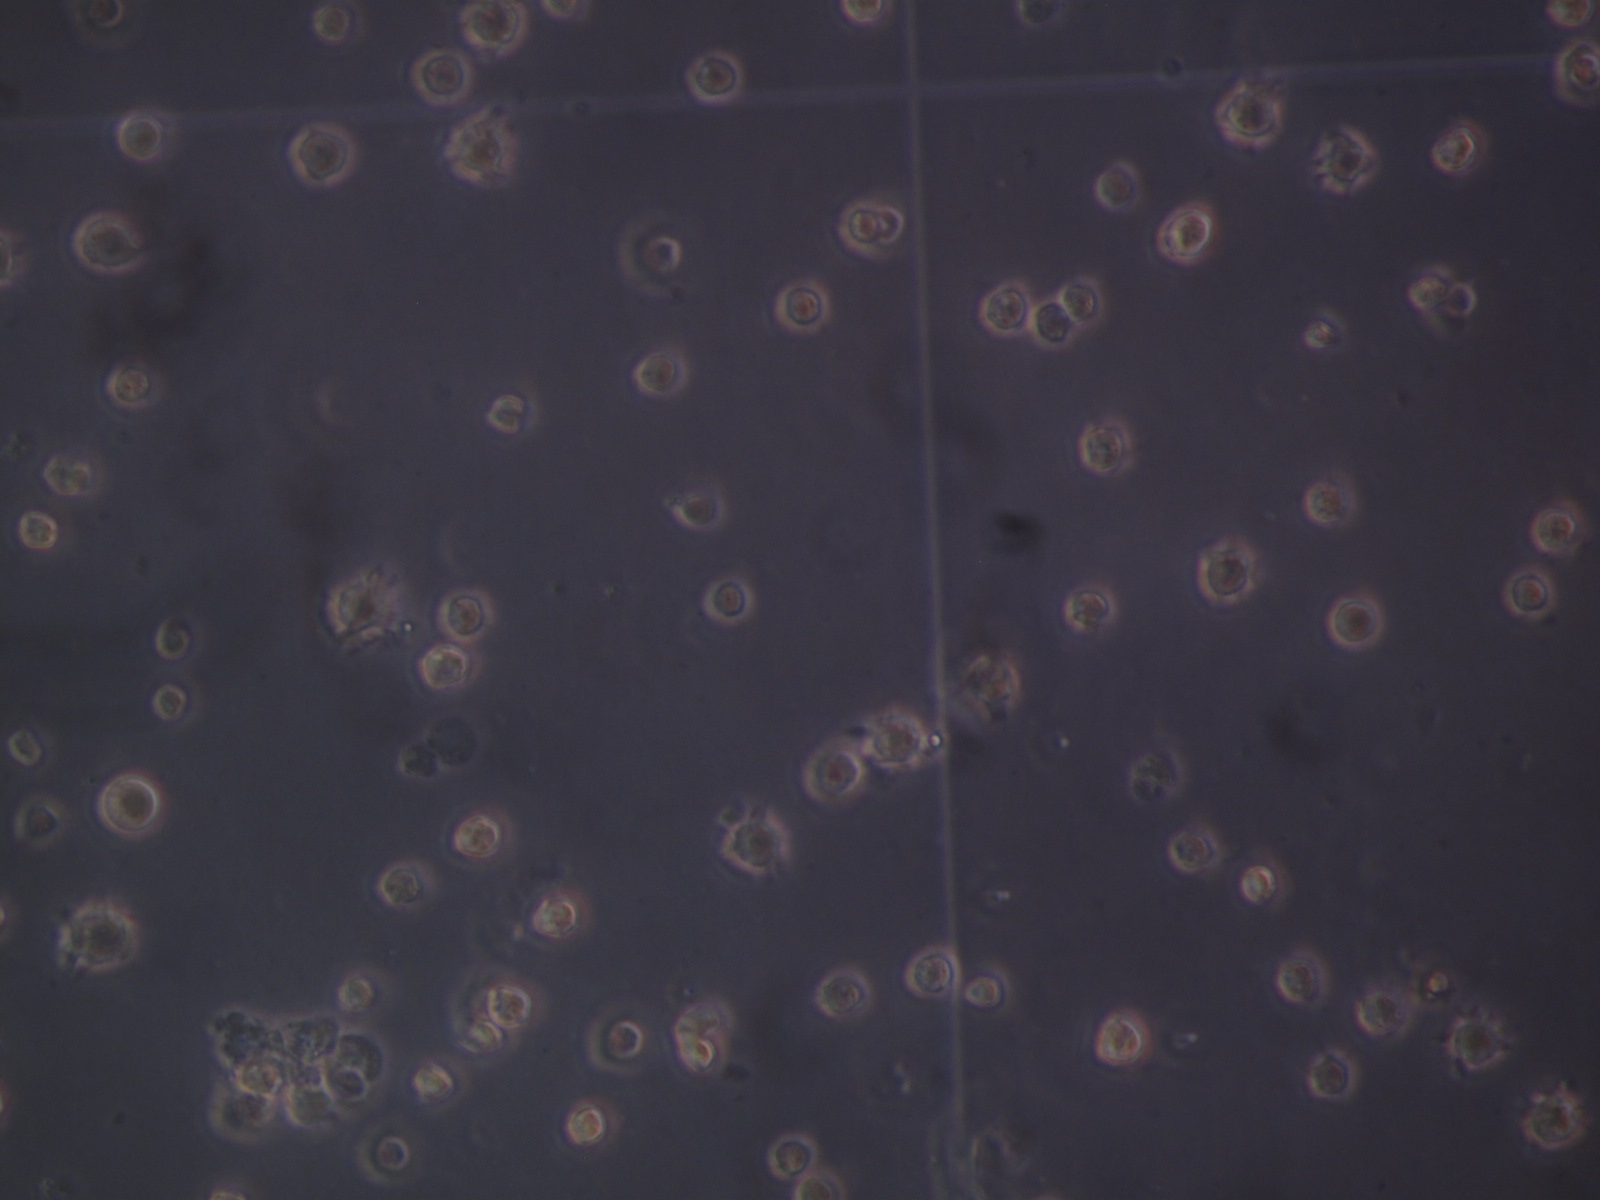hemo: (619, 205, 684, 294), (59, 901, 137, 971), (96, 771, 169, 839), (443, 117, 517, 185), (286, 122, 358, 190), (1213, 79, 1283, 147), (76, 211, 147, 274), (358, 1114, 423, 1181), (586, 1005, 648, 1075), (325, 579, 396, 639), (804, 742, 866, 811), (1317, 124, 1372, 195), (409, 44, 470, 108), (1197, 538, 1255, 605), (472, 973, 540, 1030), (460, 1, 530, 55), (721, 821, 790, 875), (454, 802, 514, 863), (144, 609, 208, 667), (871, 708, 927, 771), (683, 47, 743, 105), (528, 889, 592, 943), (1527, 1090, 1581, 1153), (1157, 207, 1214, 265), (772, 275, 831, 332), (1555, 35, 1600, 108), (813, 966, 873, 1020), (113, 112, 176, 164), (1446, 1015, 1506, 1069), (435, 590, 495, 643), (1096, 1011, 1153, 1066), (412, 1056, 469, 1112), (978, 279, 1032, 337), (1431, 118, 1489, 171), (414, 642, 477, 689), (1356, 989, 1411, 1044), (1277, 949, 1328, 1008), (903, 949, 963, 1000), (44, 447, 103, 498), (1081, 418, 1133, 474), (964, 962, 1015, 1016), (1306, 1047, 1358, 1100), (146, 674, 198, 727), (379, 858, 433, 909), (635, 349, 689, 400), (1329, 599, 1385, 648), (1506, 567, 1556, 620), (1241, 853, 1289, 909), (567, 1097, 621, 1145), (1094, 156, 1141, 211), (314, 1, 368, 49), (457, 1015, 517, 1058), (838, 195, 879, 256), (13, 799, 66, 846), (1170, 827, 1222, 874), (19, 508, 71, 555), (339, 966, 392, 1010), (108, 363, 157, 410), (1306, 479, 1357, 524), (704, 577, 752, 623), (1531, 507, 1576, 555), (1031, 300, 1075, 349), (767, 1134, 818, 1177), (1065, 586, 1115, 629), (1304, 303, 1347, 353), (1061, 279, 1104, 326), (236, 1056, 283, 1098), (10, 729, 54, 773), (325, 1064, 372, 1105), (834, 1, 894, 33), (683, 1034, 727, 1076), (489, 395, 537, 434), (1446, 279, 1478, 337), (679, 495, 724, 529), (1410, 272, 1448, 311), (82, 1, 126, 32), (1547, 1, 1595, 26), (876, 205, 906, 245), (540, 1, 592, 21)
